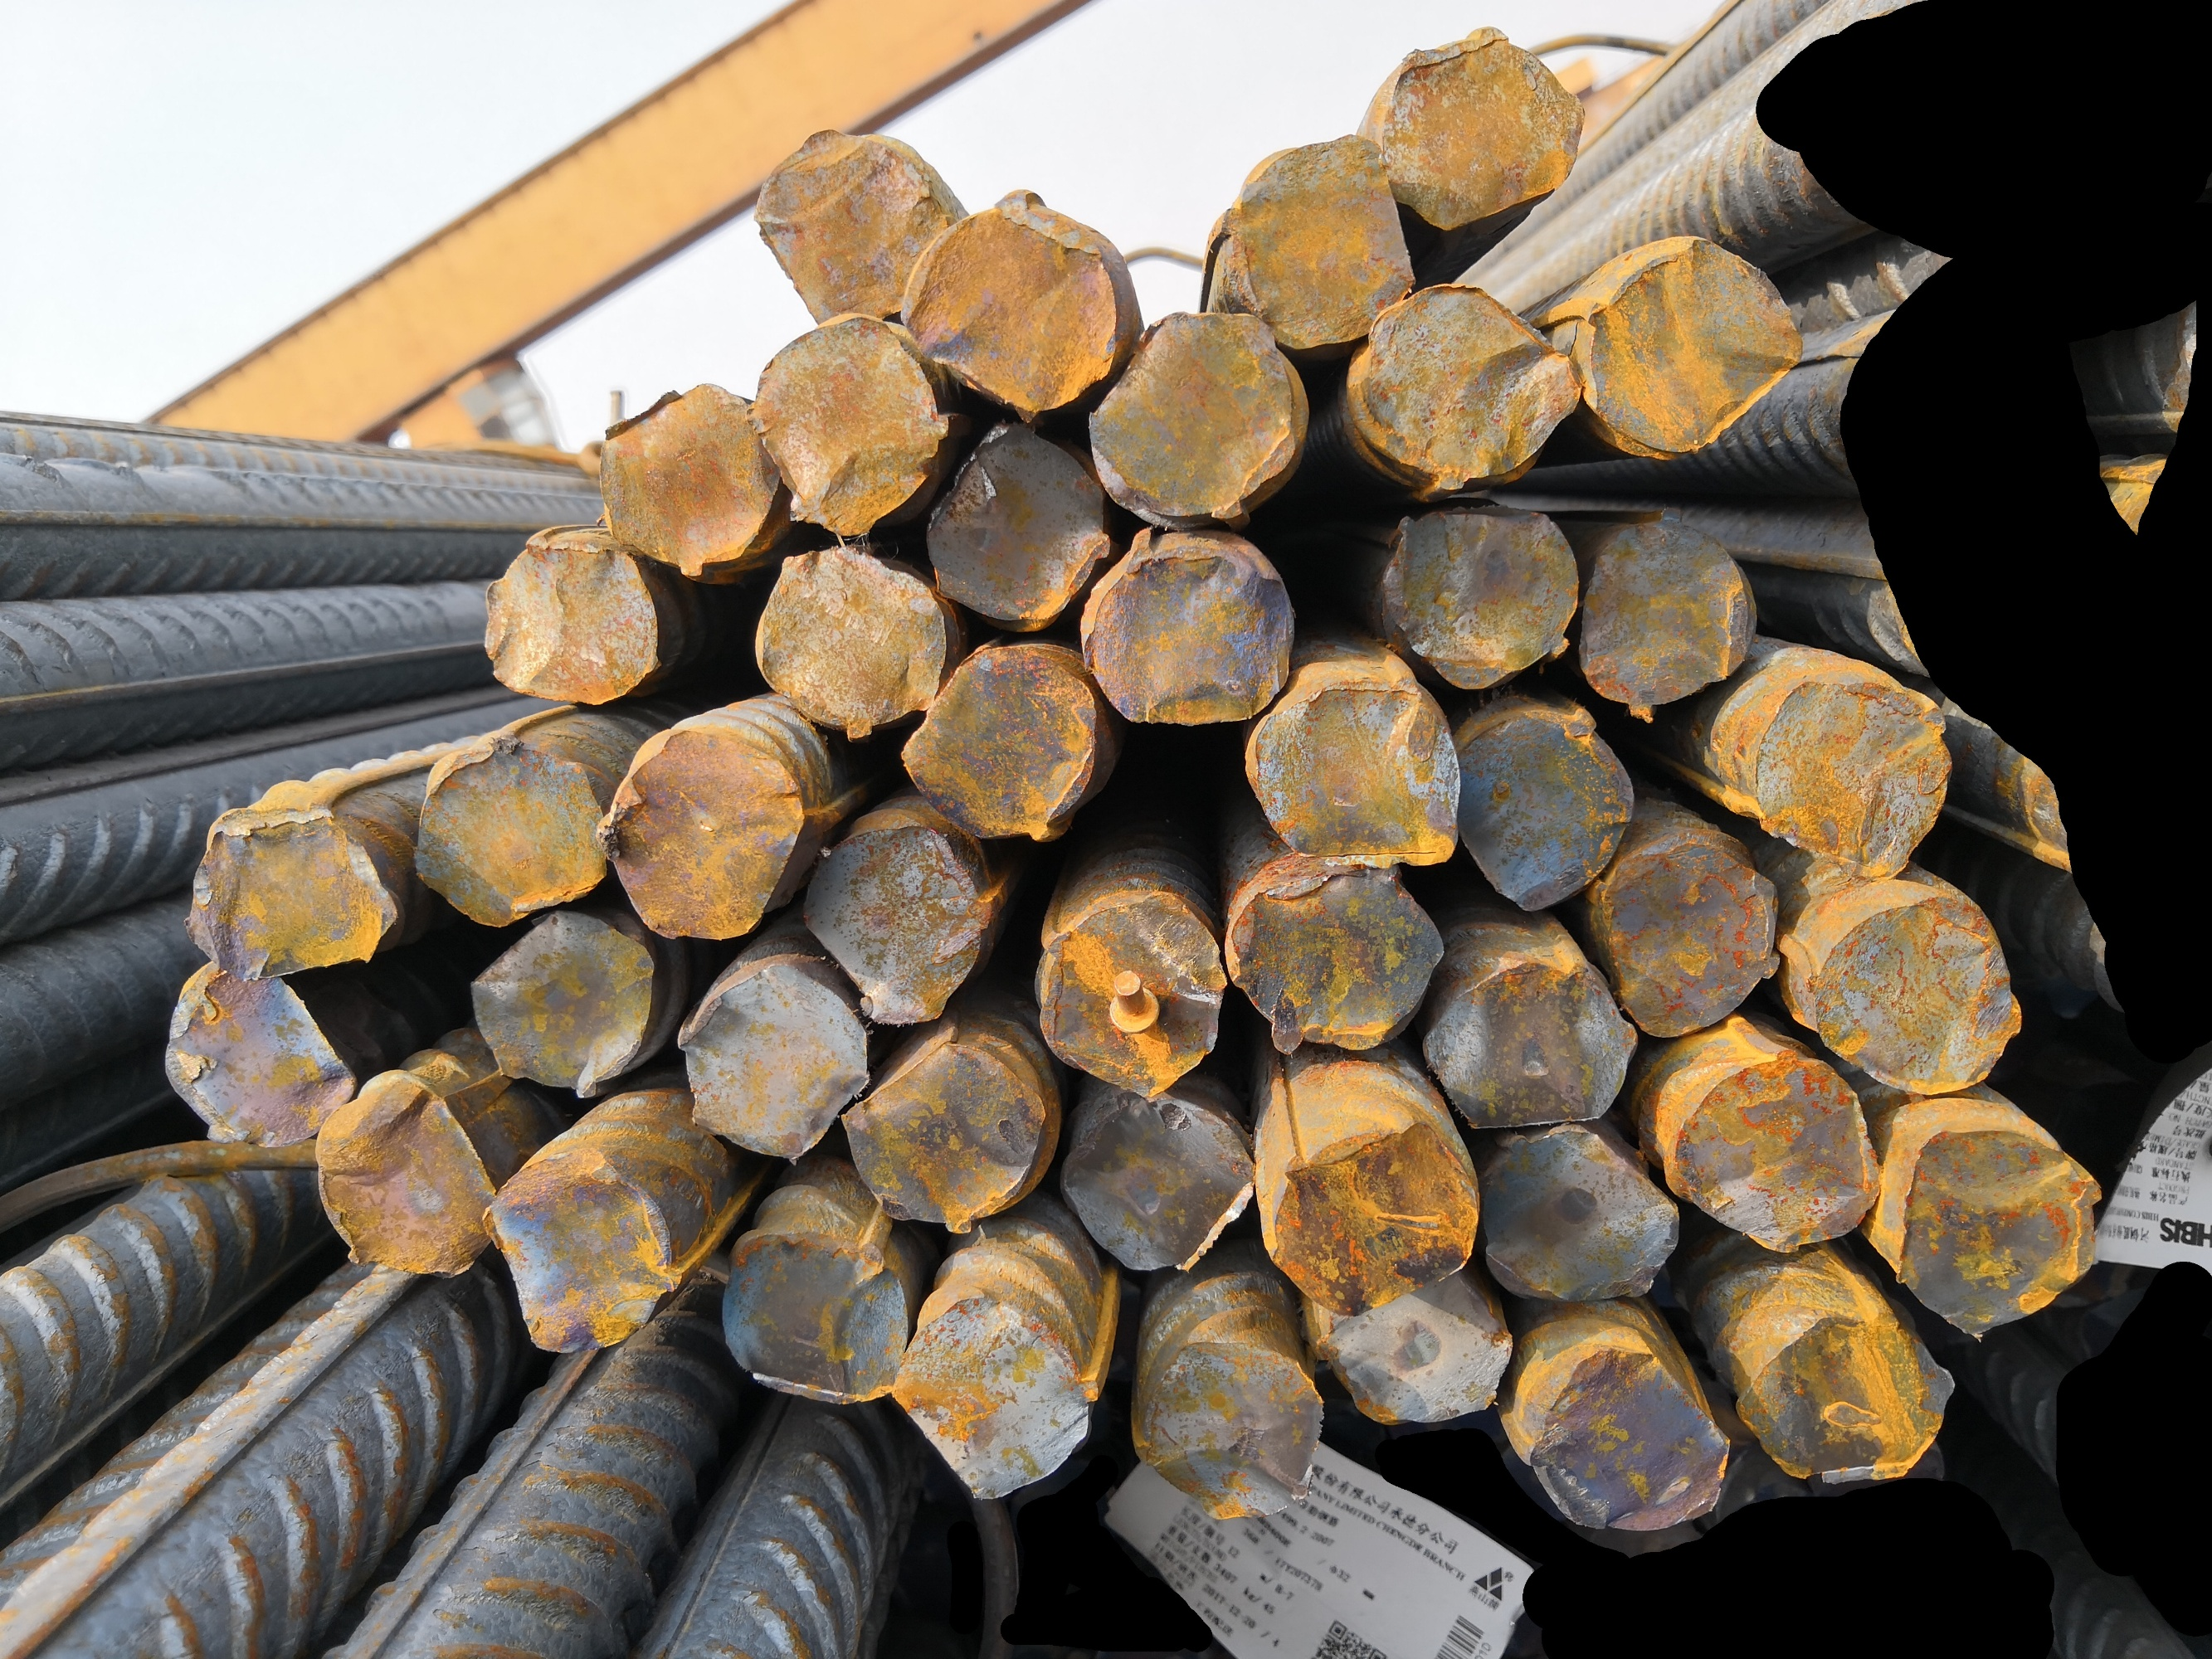rebar: (1780, 882, 2029, 1100), (899, 188, 1130, 420), (1578, 232, 1808, 460), (1353, 275, 1584, 493), (1077, 308, 1309, 525), (600, 723, 812, 946), (1661, 1042, 1884, 1255), (837, 1026, 1060, 1237), (751, 310, 959, 535), (1743, 673, 1958, 889), (1508, 1333, 1733, 1539), (1222, 863, 1449, 1066), (889, 1293, 1107, 1504), (1264, 1108, 1485, 1316), (1375, 19, 1590, 232), (1890, 1124, 2109, 1328), (751, 120, 960, 331), (1084, 523, 1295, 728), (478, 1155, 690, 1359), (800, 817, 1002, 1032), (1246, 673, 1462, 871), (675, 953, 872, 1171), (1034, 882, 1231, 1100), (309, 1060, 500, 1283), (1731, 1304, 1963, 1486), (899, 636, 1098, 847), (1218, 132, 1412, 349), (1590, 826, 1785, 1039), (1447, 702, 1637, 920), (185, 800, 404, 985), (159, 957, 361, 1157), (1375, 498, 1583, 694), (924, 418, 1116, 629), (410, 734, 612, 932), (1475, 1121, 1686, 1310), (751, 542, 952, 741), (1123, 1331, 1330, 1523), (1421, 955, 1640, 1133), (1581, 498, 1761, 714), (465, 903, 662, 1100), (1063, 1086, 1260, 1279), (715, 1220, 917, 1408), (594, 376, 776, 580), (1302, 1265, 1517, 1427), (478, 530, 668, 706)
